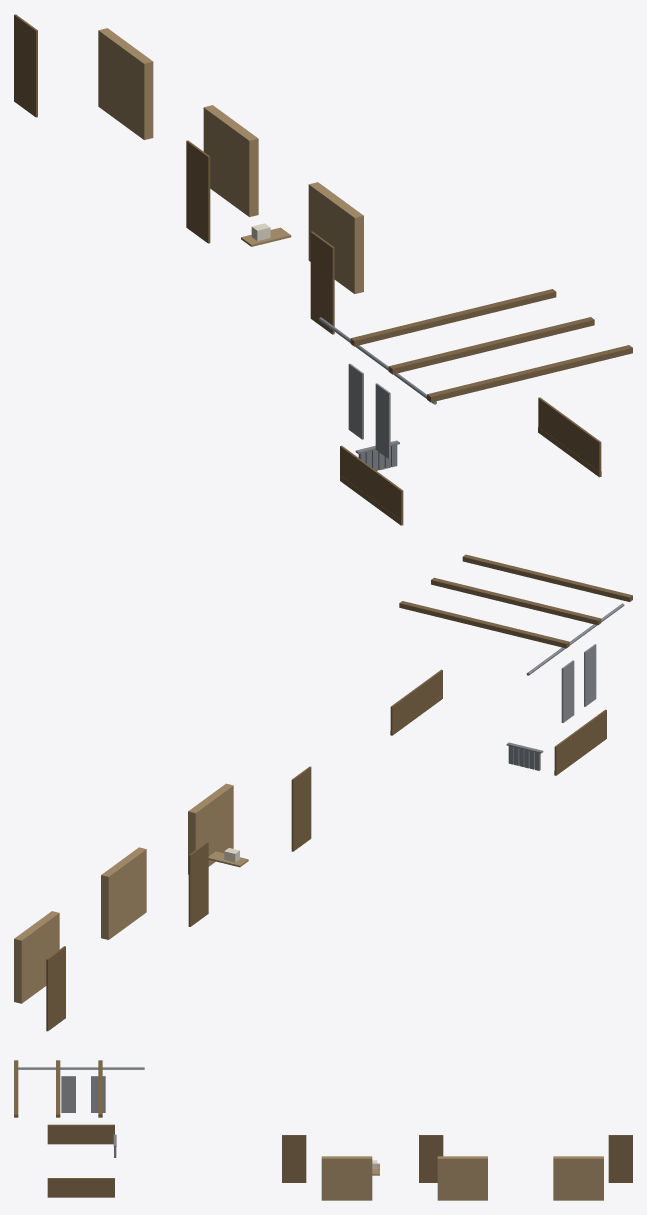
The model's file is interrogation.glb.
The picture shows the model from 3 angles, top to bottom: view 1: azimuth 30°, elevation 25°; view 2: azimuth 150°, elevation 25°; view 3: azimuth 270°, elevation 25°; orthographic projection. The views are drawn at different scales.
Parts seen in each view (by area): view 1: cshelf.002, cshelf.001, cshelf, cdoor.001, cdoor, cdoor.002, beam.001, wains.001, beam, beam.002, wains, panel (+1 smaller); view 2: cshelf.001, cshelf.002, cshelf, cdoor, cdoor.001, cdoor.002, beam, beam.001, beam.002, wains, wains.001, panel (+1 smaller); view 3: cshelf, cshelf.001, cshelf.002, wains, cdoor, cdoor.002, wains.001, cdoor.001, panel.001, panel, pipe, beam (+4 smaller).
Part boxes in pixels (x1=…): cshelf.002: x1=98, y1=28, x2=153, y2=139; cshelf.001: x1=203, y1=105, x2=258, y2=216; cshelf: x1=308, y1=182, x2=363, y2=293; cdoor.001: x1=186, y1=140, x2=210, y2=243; cdoor: x1=310, y1=231, x2=334, y2=334; cdoor.002: x1=14, y1=14, x2=37, y2=117; beam.001: x1=388, y1=317, x2=594, y2=374; wains.001: x1=538, y1=397, x2=601, y2=476; beam: x1=350, y1=289, x2=556, y2=346; beam.002: x1=427, y1=345, x2=632, y2=402; wains: x1=340, y1=445, x2=403, y2=524; panel: x1=348, y1=363, x2=363, y2=439; cshelf.001: x1=101, y1=847, x2=146, y2=939; cshelf.002: x1=14, y1=911, x2=59, y2=1003; cshelf: x1=188, y1=783, x2=233, y2=874; cdoor: x1=291, y1=766, x2=311, y2=851; cdoor.001: x1=188, y1=842, x2=208, y2=926; cdoor.002: x1=46, y1=946, x2=65, y2=1031; beam: x1=399, y1=601, x2=569, y2=648; beam.001: x1=431, y1=577, x2=601, y2=625; beam.002: x1=462, y1=554, x2=632, y2=601; wains: x1=554, y1=709, x2=606, y2=774; wains.001: x1=390, y1=669, x2=442, y2=735; panel: x1=561, y1=660, x2=574, y2=722; cshelf: x1=321, y1=1156, x2=372, y2=1200; cshelf.001: x1=437, y1=1156, x2=487, y2=1200; cshelf.002: x1=553, y1=1156, x2=603, y2=1200; wains: x1=47, y1=1124, x2=114, y2=1141; cdoor: x1=282, y1=1135, x2=306, y2=1182; cdoor.002: x1=608, y1=1135, x2=632, y2=1182; wains.001: x1=47, y1=1178, x2=114, y2=1194; cdoor.001: x1=419, y1=1135, x2=443, y2=1182; panel.001: x1=61, y1=1076, x2=75, y2=1112; panel: x1=91, y1=1076, x2=105, y2=1112; pipe: x1=18, y1=1067, x2=144, y2=1069; beam: x1=98, y1=1060, x2=102, y2=1117.
Size of the model in its own units: 6.41 by 4.36 by 29.38.
